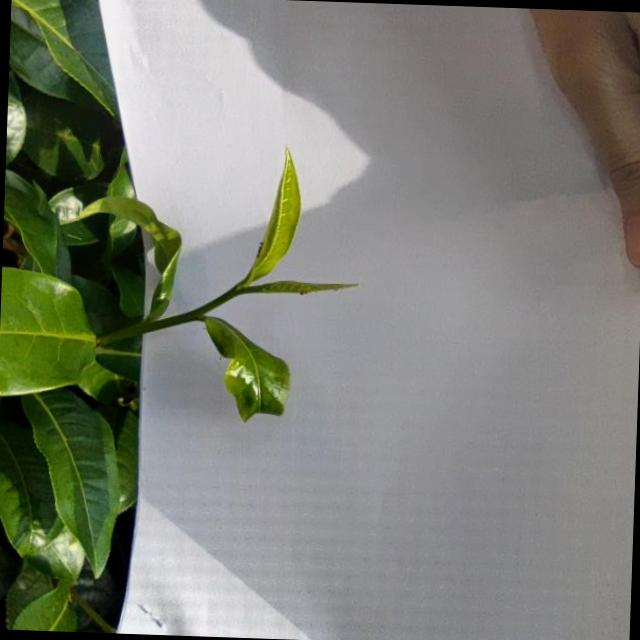Stem: (202, 287, 239, 313)
